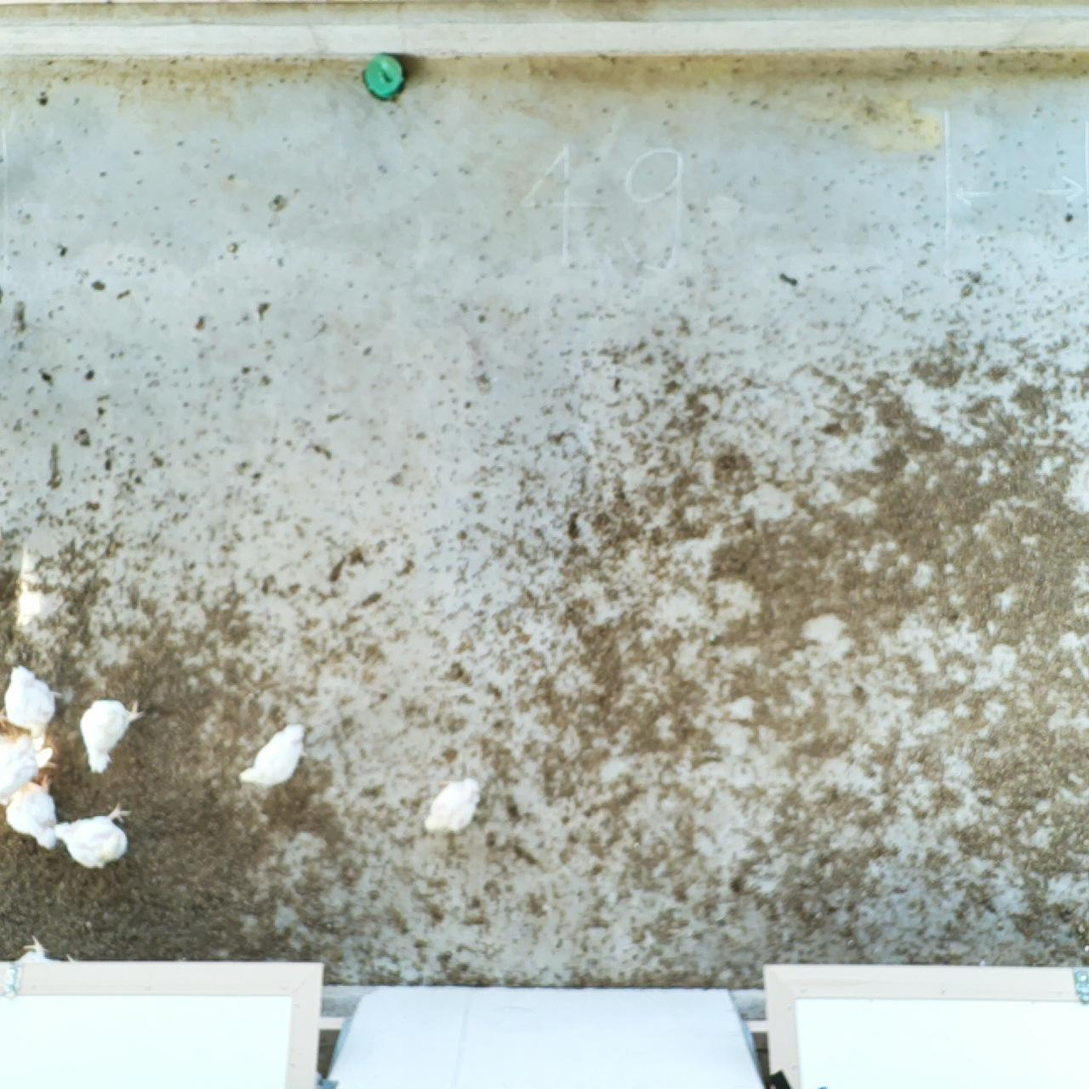chicken: (76, 695, 149, 779), (53, 799, 132, 872), (1, 660, 63, 753), (238, 722, 311, 791), (2, 774, 61, 853), (421, 773, 487, 840), (0, 730, 41, 806)
